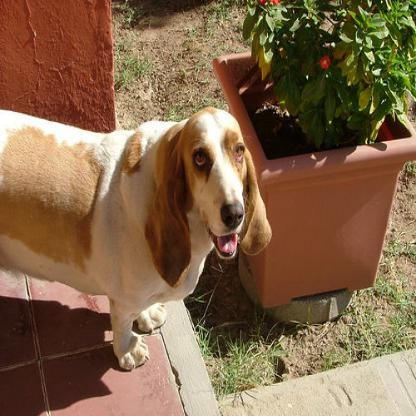dog: (0, 106, 271, 370)
pottedplant: (212, 0, 415, 306)
